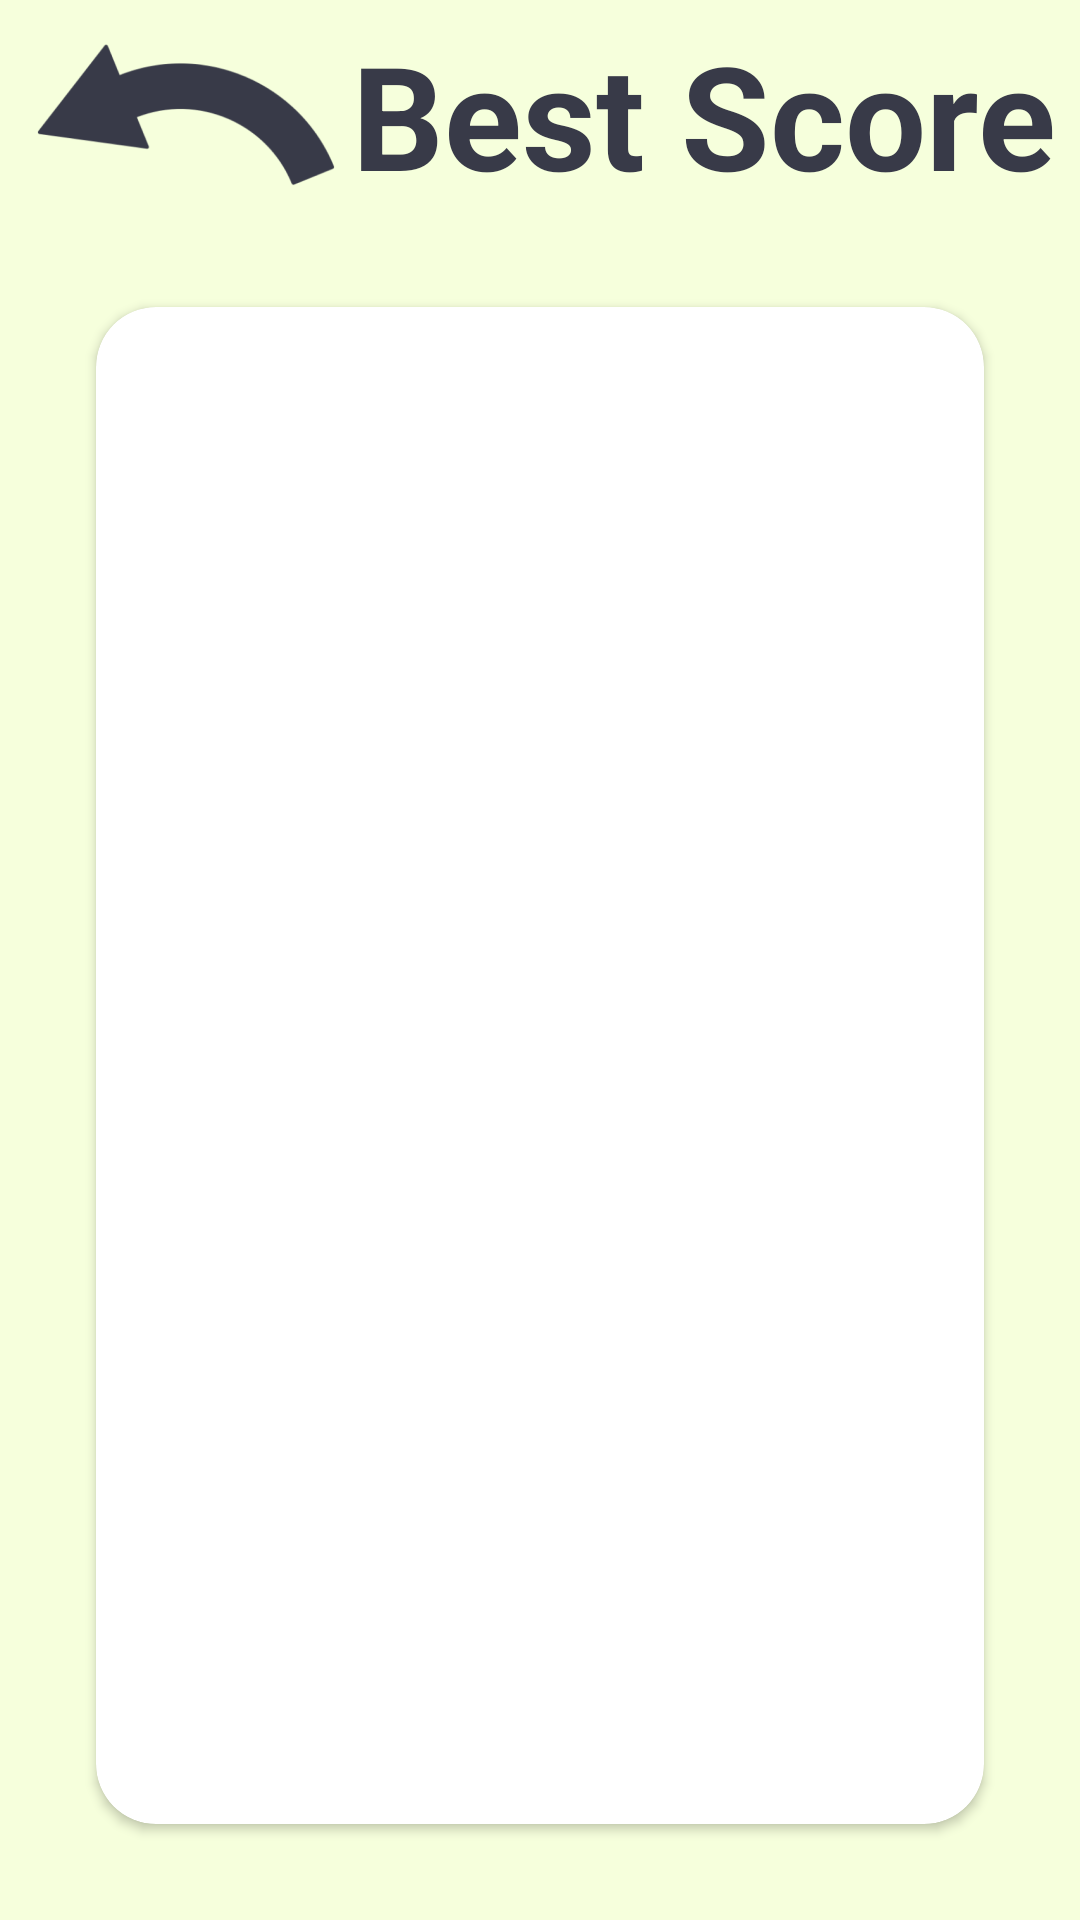

Point at icon controls on the screen. Image size 1080px x 1920px, points as (x,y).
back: (186,114)
